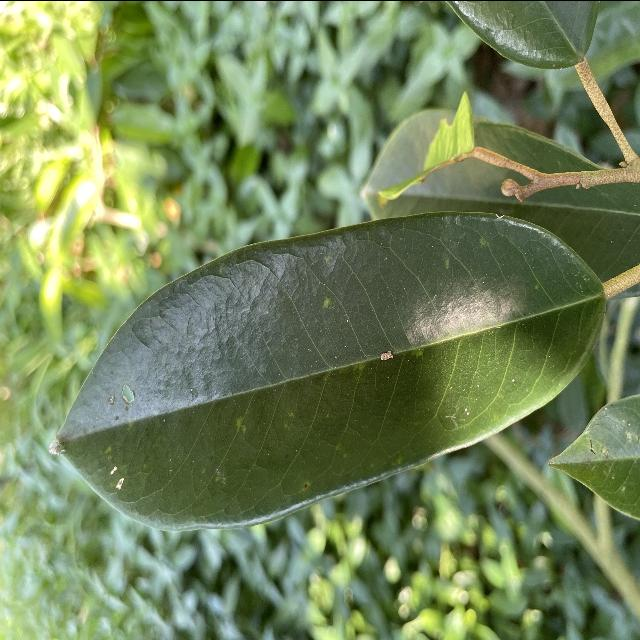No Disease: (44, 197, 619, 543)
